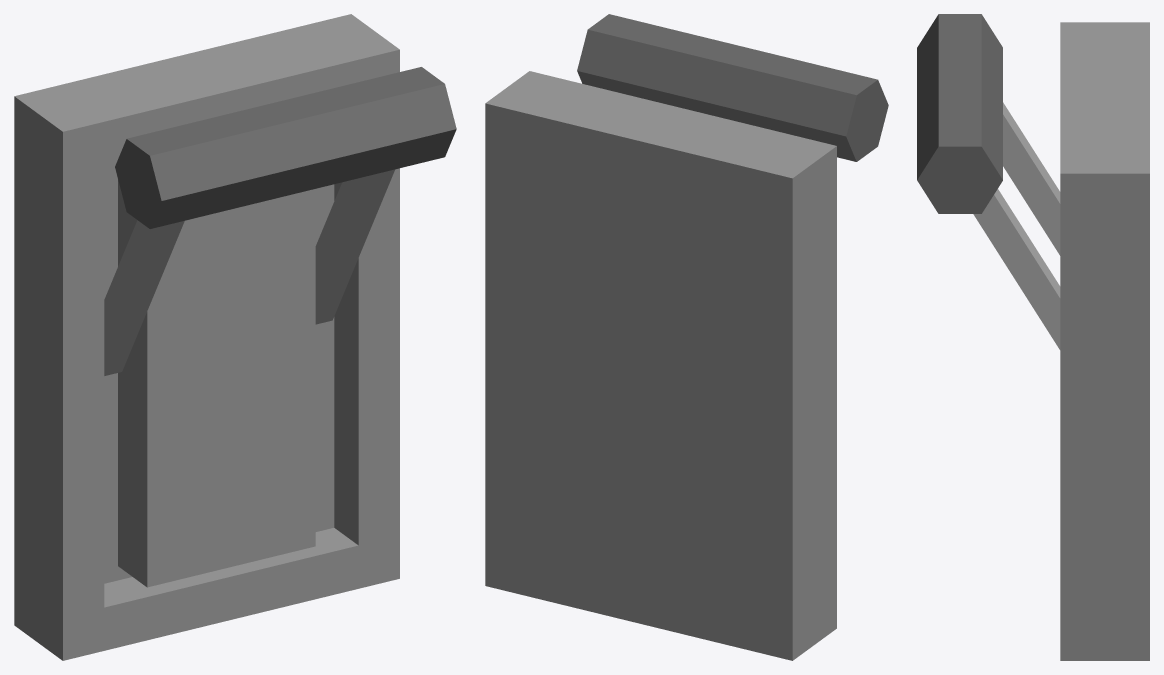
Rendered from Lever.fbx.
3 views of the same model, side by side, from view 1: azimuth 30°, elevation 25°; view 2: azimuth 150°, elevation 25°; view 3: azimuth 270°, elevation 25° (orthographic). The views are drawn at different scales.
Visible parts, largest first — view 1: Cube, Cube.001; view 2: Cube, Cube.001; view 3: Cube, Cube.001.
Part boxes in pixels (bbox=[...]): Cube: bbox=[14, 14, 399, 660]; Cube.001: bbox=[104, 67, 456, 375]; Cube: bbox=[485, 71, 836, 660]; Cube.001: bbox=[577, 14, 888, 161]; Cube: bbox=[1060, 22, 1149, 660]; Cube.001: bbox=[917, 14, 1060, 349].
Size of the model in its own units: 40 by 62.18 by 25.98.
